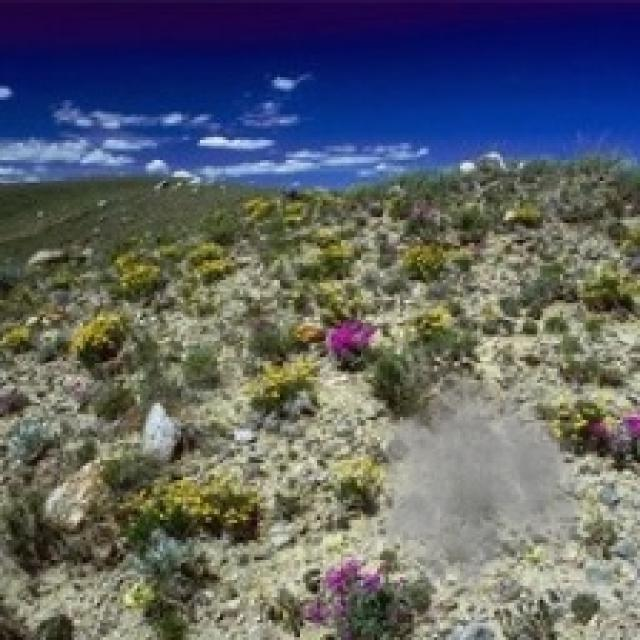Smoke: (366, 360, 600, 600)
